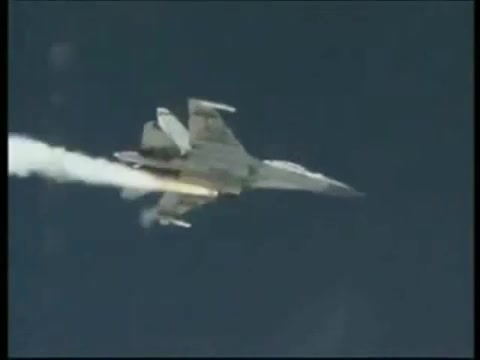aeroplane: (115, 99, 366, 230)
